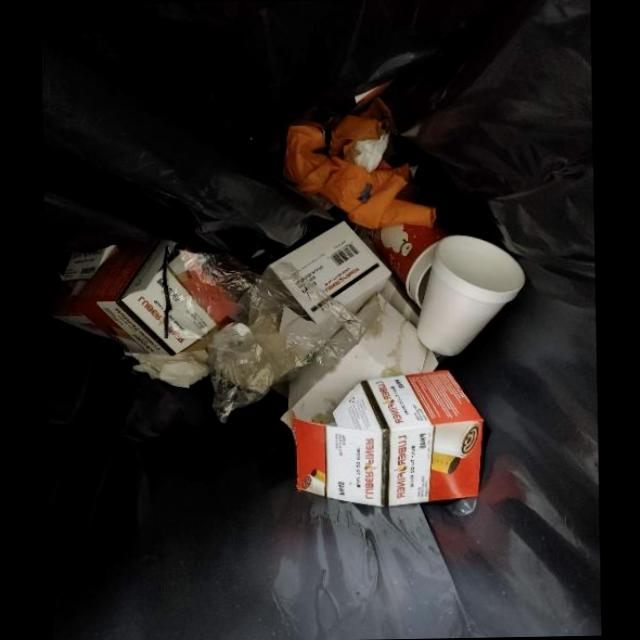carton: (292, 370, 485, 507), (281, 281, 438, 427), (73, 240, 235, 356), (269, 221, 392, 367), (52, 245, 118, 337)
hop_nhua: (354, 222, 451, 308)
tui_ni_long: (203, 264, 367, 424)
xop: (417, 235, 526, 356)
